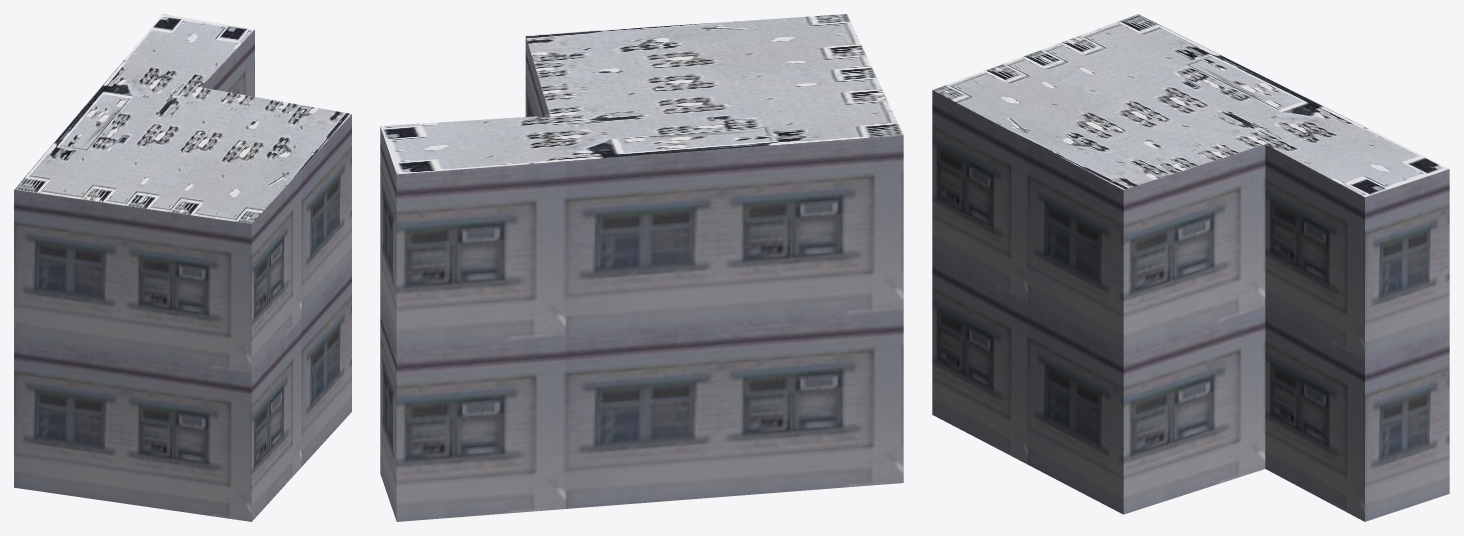
The model's file is ResTex__29.fbx.
3 views of the same model, side by side, from view 1: azimuth 30°, elevation 25°; view 2: azimuth 150°, elevation 25°; view 3: azimuth 270°, elevation 25° (orthographic). The views are drawn at different scales.
Visible parts, largest first — view 1: CityEngineMaterial_1_m, CityEngineMaterial_m; view 2: CityEngineMaterial_1_m, CityEngineMaterial_m; view 3: CityEngineMaterial_1_m, CityEngineMaterial_m.
Boxes of the visible parts, x1,y1,x2,y2 form: CityEngineMaterial_1_m: [14, 30, 351, 521]; CityEngineMaterial_m: [14, 14, 351, 223]; CityEngineMaterial_1_m: [380, 36, 903, 521]; CityEngineMaterial_m: [380, 14, 903, 174]; CityEngineMaterial_1_m: [932, 90, 1449, 521]; CityEngineMaterial_m: [932, 14, 1449, 196].
Size of the model in its own units: 7.26 by 6 by 8.66.
2 materials, 2 textured.
